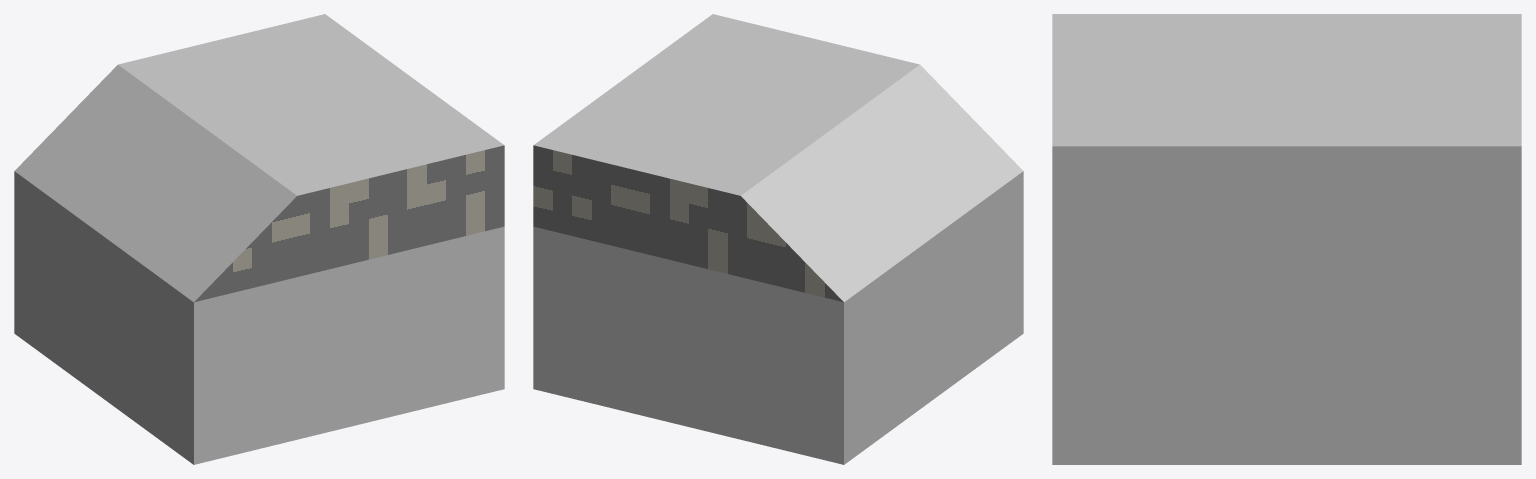
File: slope75_shave8_base8.obj
The picture shows the model from 3 angles, left to right: view 1: azimuth 30°, elevation 25°; view 2: azimuth 150°, elevation 25°; view 3: azimuth 270°, elevation 25°; orthographic projection. The views are drawn at different scales.
Size of the model in its own units: 1 by 0.75 by 1.
